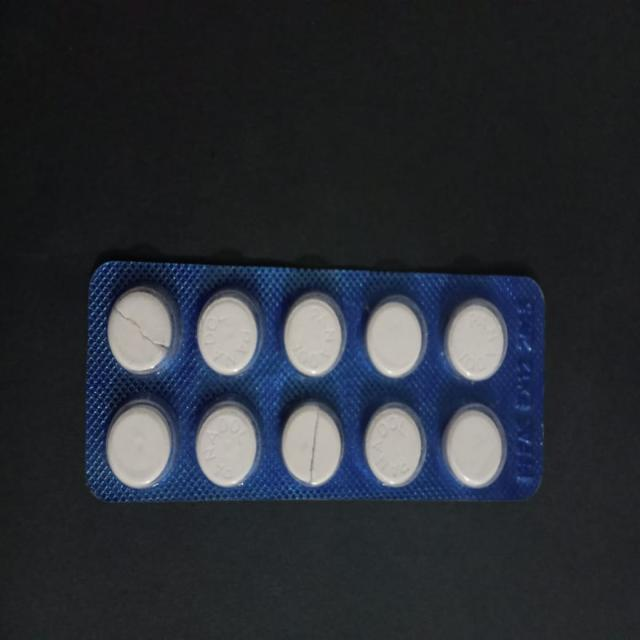defect: (106, 280, 180, 378), (278, 398, 346, 488)
